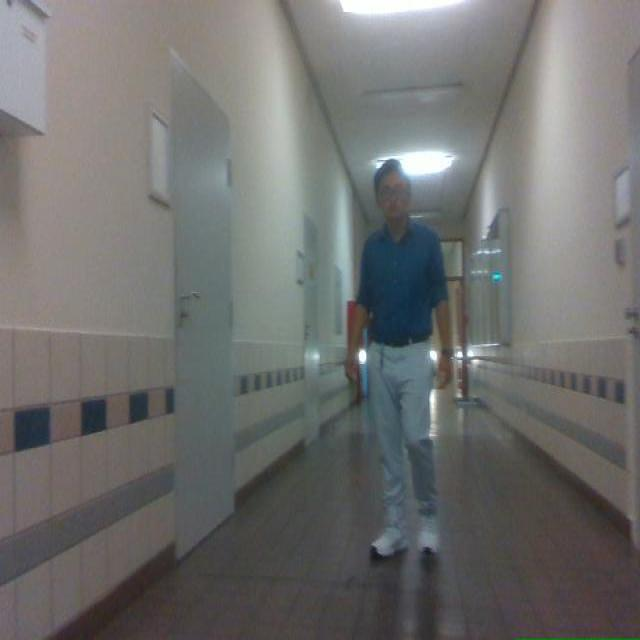humans: (345, 160, 451, 557)
